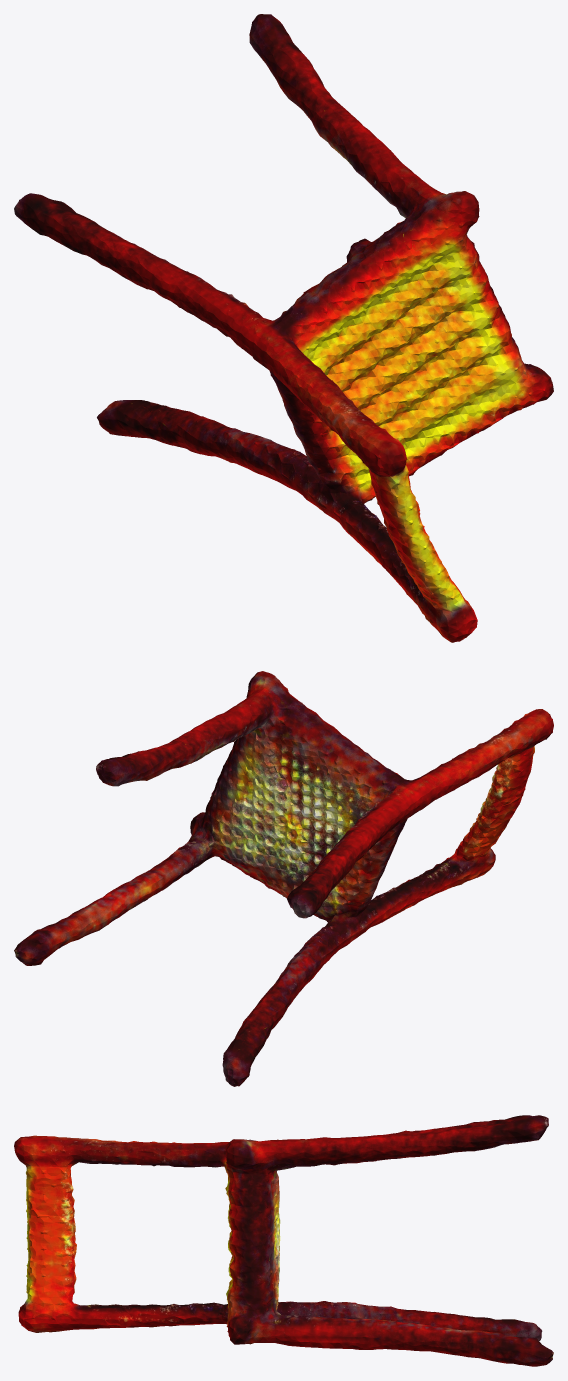
The model's file is Chair.obj.
3 renders of one model, top to bottom at view 1: azimuth 30°, elevation 25°; view 2: azimuth 150°, elevation 25°; view 3: azimuth 270°, elevation 25°, orthographic. The views are drawn at different scales.
Visible parts, largest first — view 1: object; view 2: object; view 3: object.
Part boxes in pixels (x1,y1,x2,y2): object: (14, 14, 553, 642); object: (14, 671, 553, 1086); object: (14, 1115, 553, 1366).
Size of the model in its own units: 1.01 by 0.9922 by 1.7.
Materials: 1 (1 with a texture image).
